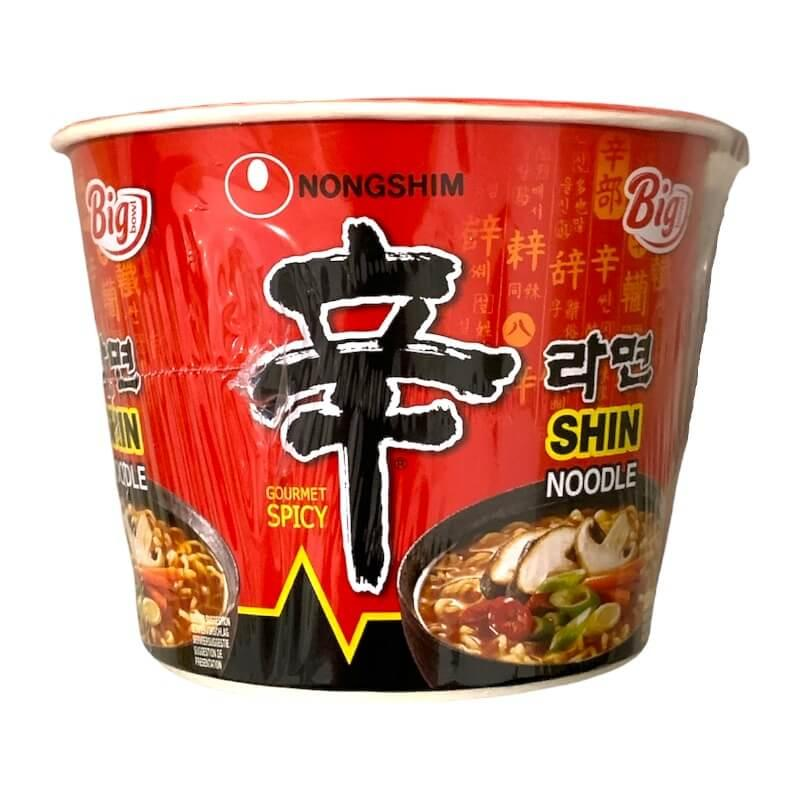instant_noodle: (51, 99, 758, 695)
